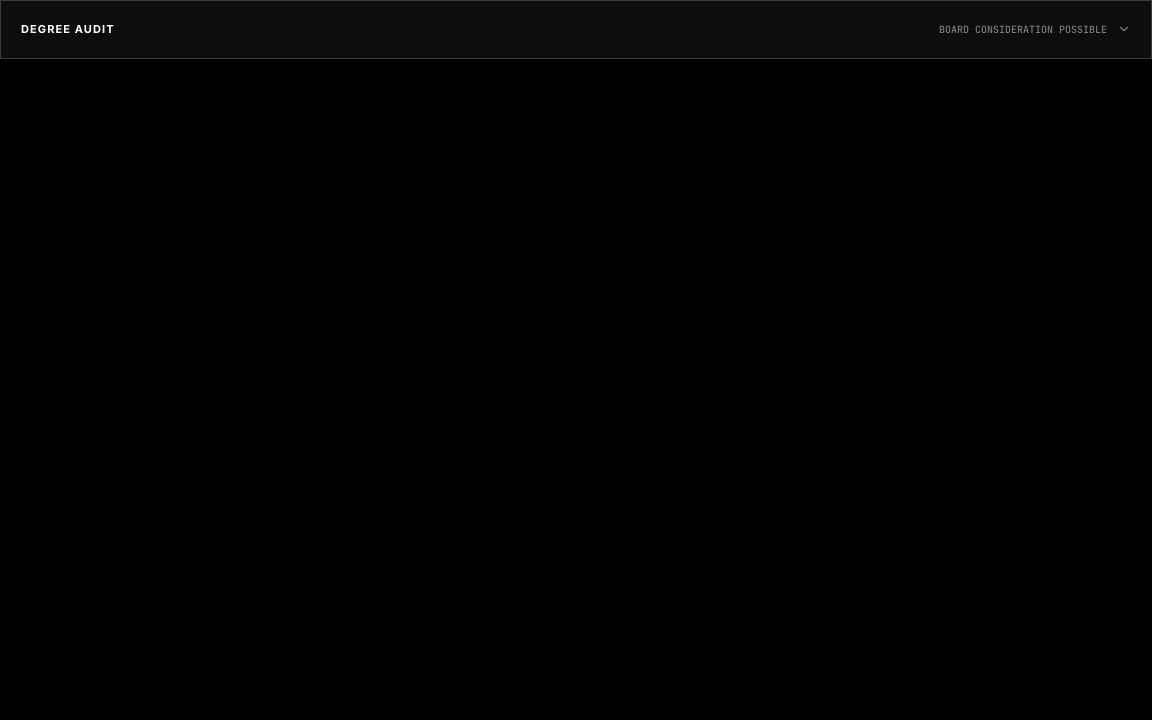
Test: DegreeAudit › shows Board consideration separately from achieved classes
Click the button "Degree Audit Board consideration possible" at (68, 29), box [1,1,1151,58]
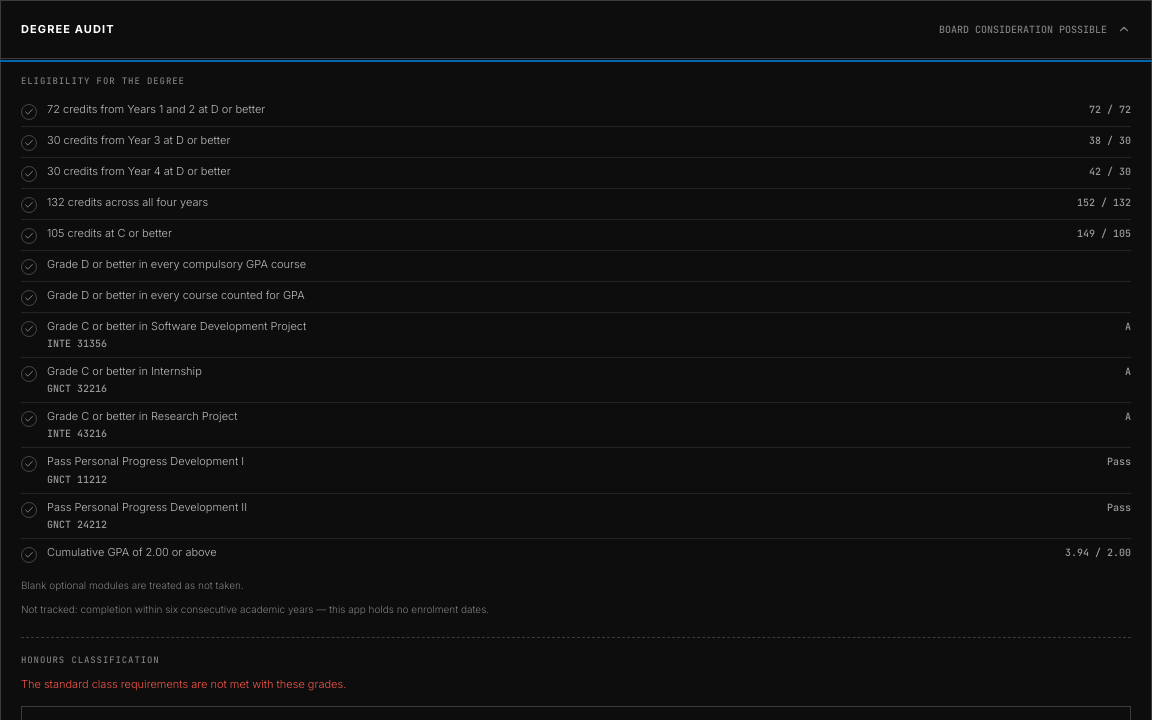
Now the text "Blank optional modules are treated as not taken." is shown, box [21,579,244,591]
